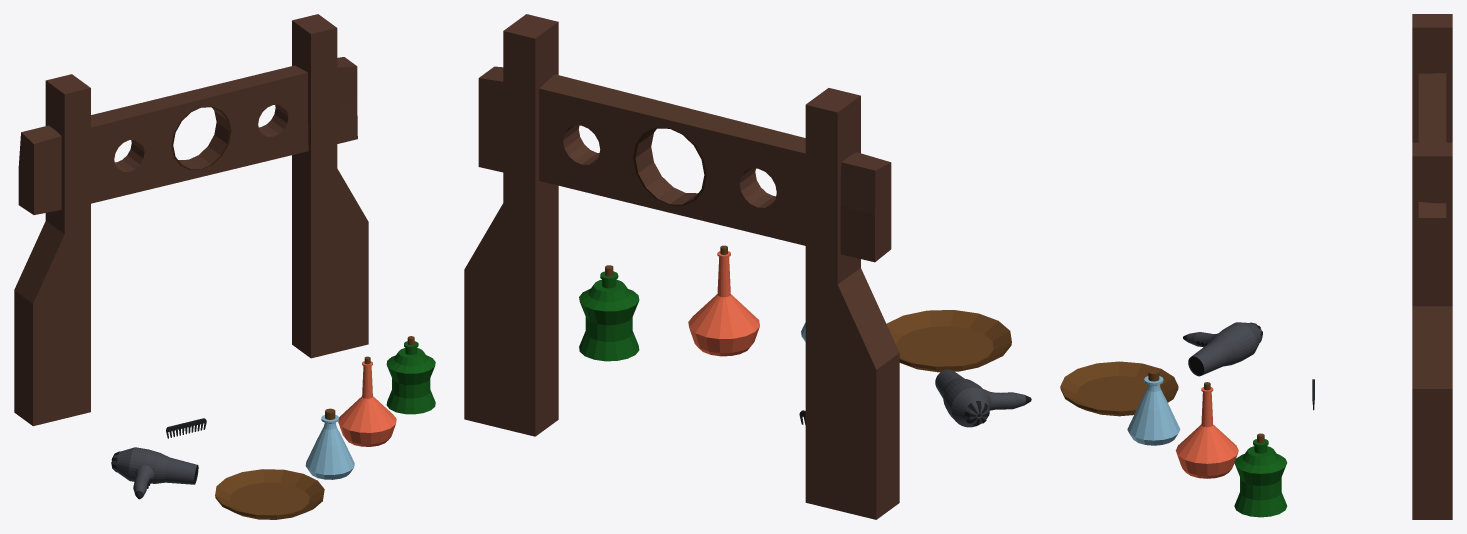
Rendered from Expansion2.fbx.
The picture shows the model from 3 angles, left to right: view 1: azimuth 30°, elevation 25°; view 2: azimuth 150°, elevation 25°; view 3: azimuth 270°, elevation 25°; orthographic projection. The views are drawn at different scales.
Visible parts, largest first — view 1: Cube.002, Cylinder.003, Cylinder.002, Föhn, Cylinder.001, Cylinder; view 2: Cube.002, Cylinder.003, Cylinder.002, Cylinder.001, Föhn; view 3: Cube.002, Cylinder.003, Cylinder.002, Cylinder.001, Föhn, Cylinder.
Part boxes in pixels (left/top/right/bottom): Cube.002: left=14, top=14, right=368, bottom=426; Cylinder.003: left=215, top=469, right=324, bottom=519; Cylinder.002: left=386, top=336, right=435, bottom=414; Föhn: left=111, top=447, right=198, bottom=499; Cylinder.001: left=338, top=356, right=396, bottom=446; Cylinder: left=305, top=408, right=354, bottom=479; Cube.002: left=464, top=14, right=899, bottom=519; Cylinder.003: left=886, top=310, right=1011, bottom=372; Cylinder.002: left=579, top=265, right=639, bottom=361; Cylinder.001: left=688, top=245, right=759, bottom=356; Föhn: left=935, top=369, right=1031, bottom=427; Cube.002: left=1412, top=14, right=1452, bottom=519; Cylinder.003: left=1060, top=361, right=1178, bottom=416; Cylinder.002: left=1234, top=433, right=1287, bottom=517; Cylinder.001: left=1175, top=382, right=1238, bottom=478; Föhn: left=1183, top=322, right=1262, bottom=376; Cylinder: left=1127, top=369, right=1180, bottom=445.
Bounding box in the file's own units: 370 × 342 × 349.
